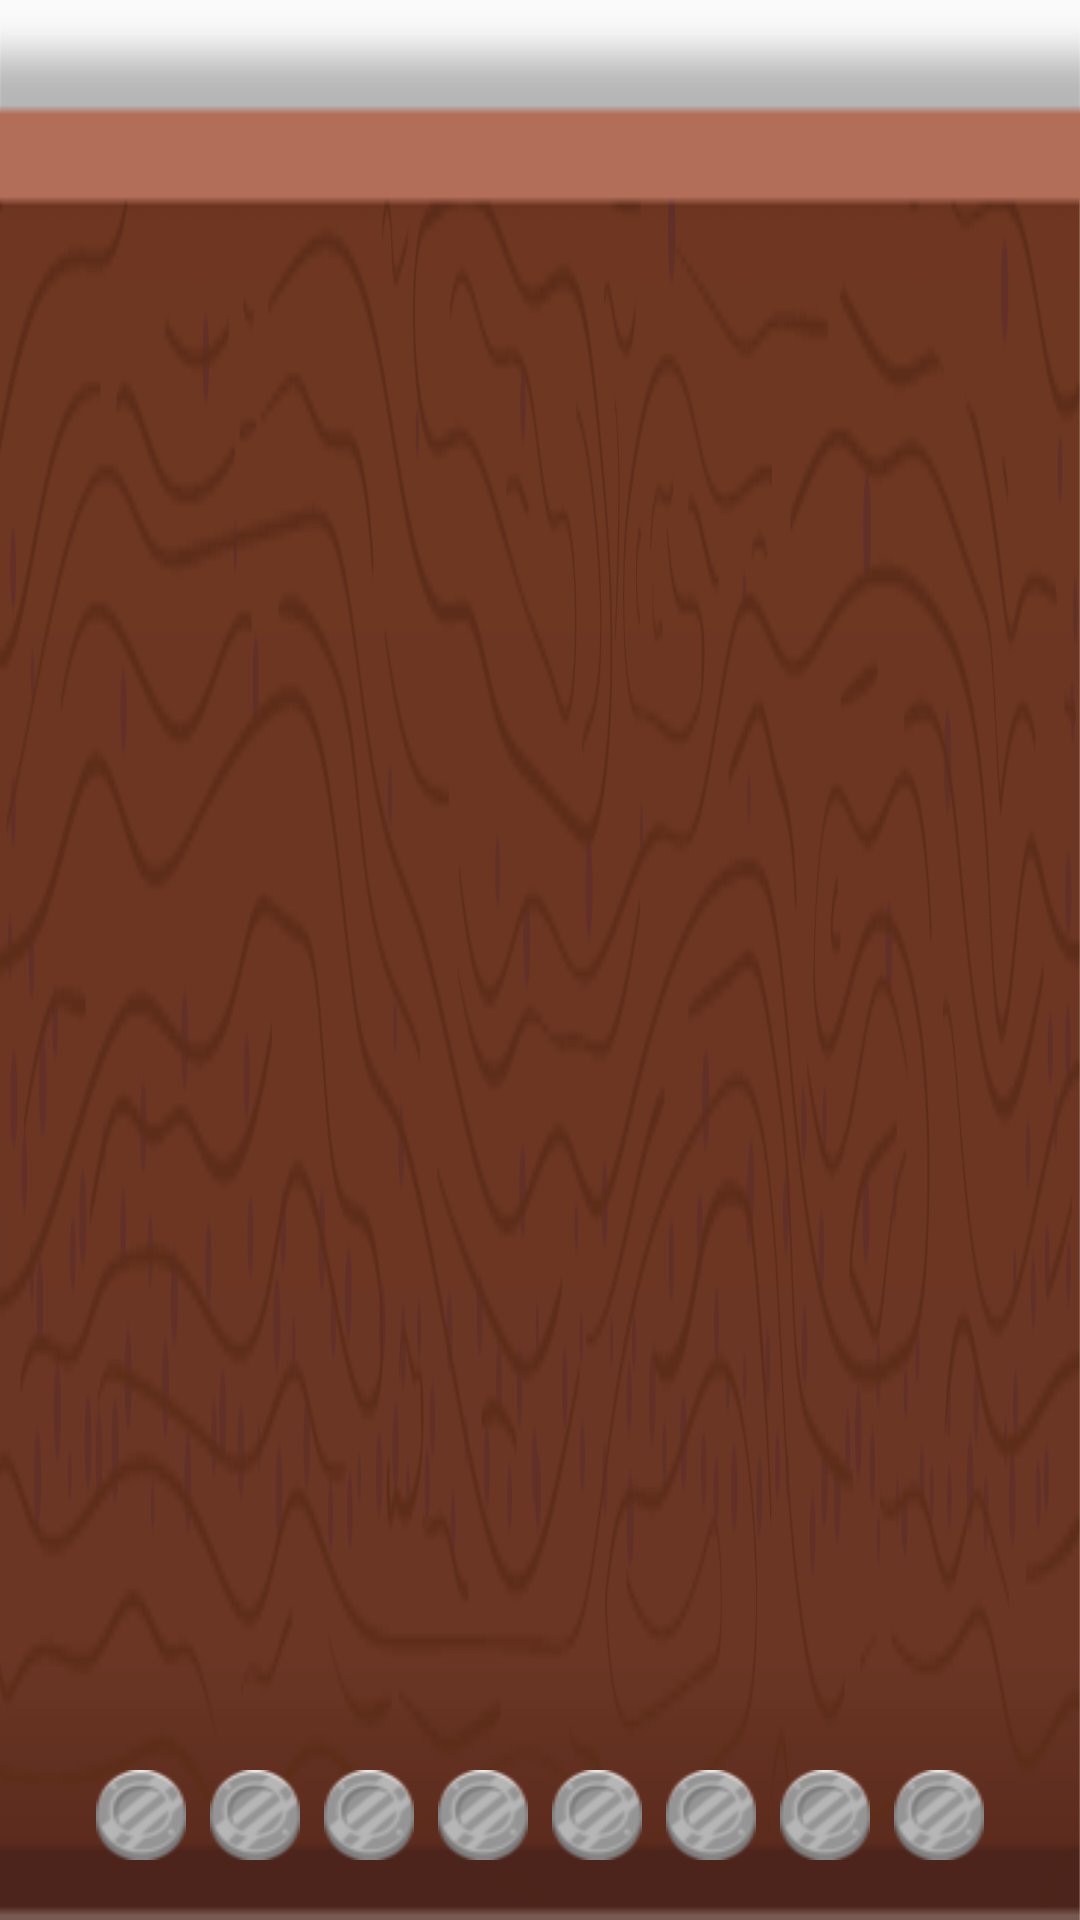

Named icons in this screenshot (1080px×1920px) and their bounding boxes, (x1, y1, x2, y2):
coin: (96, 1770, 186, 1860), (210, 1770, 300, 1860), (324, 1770, 414, 1860), (438, 1770, 528, 1860), (552, 1770, 642, 1860), (666, 1770, 756, 1860), (780, 1770, 870, 1860), (894, 1770, 984, 1860)
